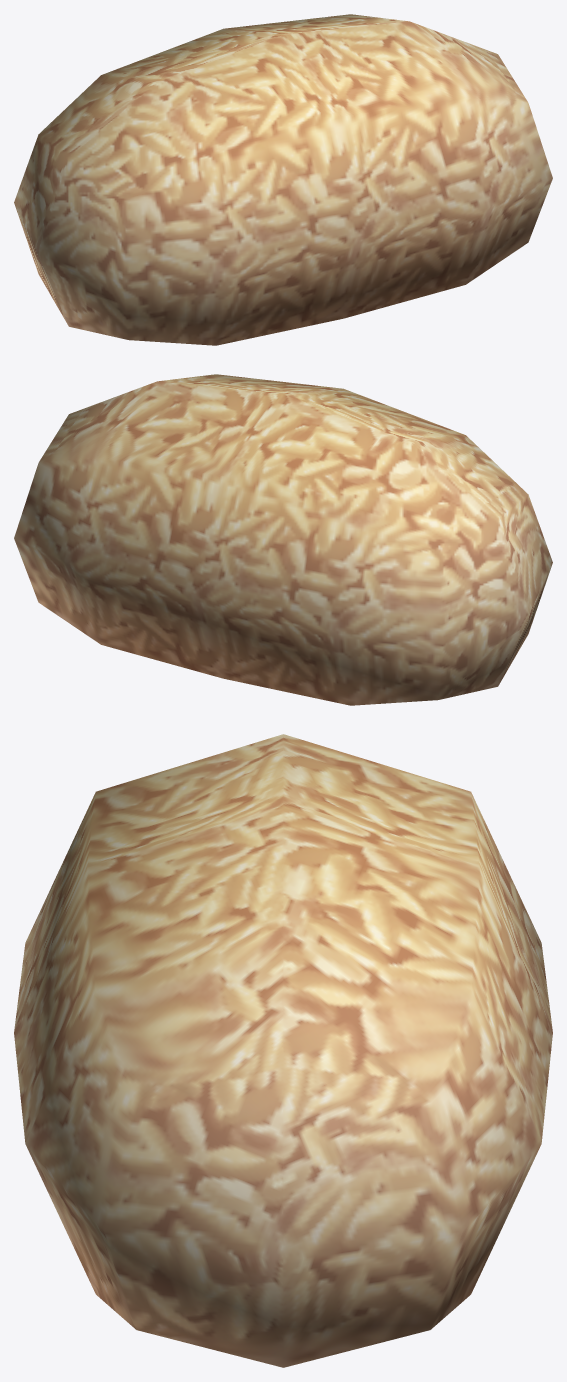
File: shushisRiceOnly.fbx
3 views of the same model, one above another, from view 1: azimuth 30°, elevation 25°; view 2: azimuth 150°, elevation 25°; view 3: azimuth 270°, elevation 25° (orthographic). The views are drawn at different scales.
Parts seen in each view (by area): view 1: shushisRiceOnly; view 2: shushisRiceOnly; view 3: shushisRiceOnly.
Part boxes in pixels (left/top/right/bottom): shushisRiceOnly: left=14, top=14, right=552, bottom=345; shushisRiceOnly: left=14, top=374, right=552, bottom=705; shushisRiceOnly: left=14, top=734, right=552, bottom=1367.
Bounding box in the file's own units: 27.67 × 14.97 × 16.14.
